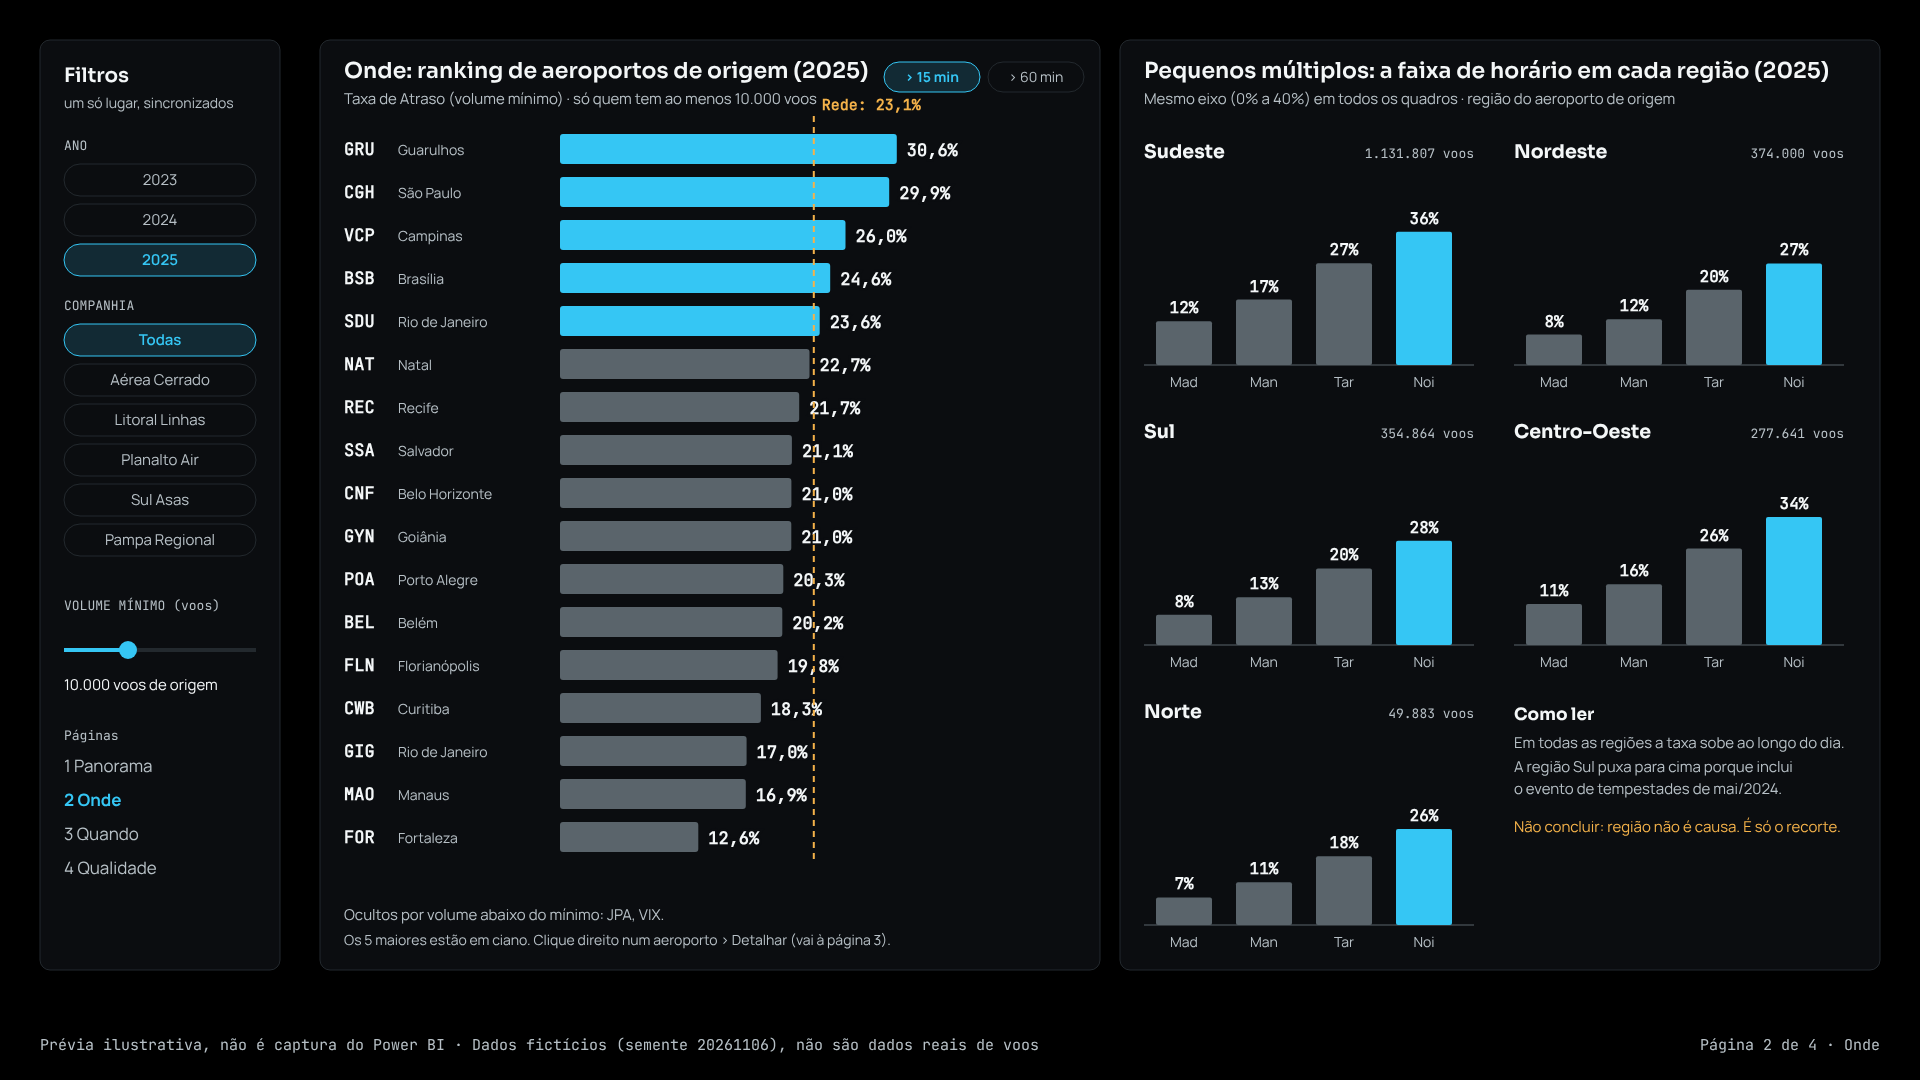

Layout of this report page (visuals, bound fields, positions):
{"tool":"powerbi","page":{"name":"Onde","canvas":[1280,720],"ordinal":1},"visuals":[{"type":"textbox","box":[16,10,168,68],"z":1},{"type":"textbox","box":[200,8,860,74],"z":2},{"type":"textbox","box":[1076,10,188,68],"z":3},{"type":"slicer","title":"Ano","fields":{"Values":["dim_calendario.ano"]},"box":[16,84,168,104],"z":9},{"type":"slicer","title":"Companhia","fields":{"Values":["dim_companhia.companhia"]},"box":[16,198,168,200],"z":10},{"type":"slicer","title":"Volume mínimo (voos)","fields":{"Values":["Param Volume Minimo.Value"]},"box":[16,408,168,96],"z":11},{"type":"barChart","title":"Taxa de atraso (só aeroportos com volume mínimo)","fields":{"Category":["dim_aeroporto.iata"],"Y":["_Medidas.Taxa de Atraso (volume mínimo)"]},"box":[200,84,520,548],"z":20},{"type":"barChart","title":"Diferença para a média da rede (pontos percentuais)","fields":{"Category":["dim_aeroporto.iata"],"Y":["_Medidas.Diferença para a Rede (p.p.)"]},"box":[736,84,528,548],"z":21},{"type":"textbox","box":[200,640,1064,42],"z":22}]}

Visuals, with their boxes in screenshot pixels (x1, y1, x2, y2), scaled from the page's 1280x720 canvas onto the 1920x1080 screenshot:
textbox: select_region(24, 15, 276, 117)
textbox: select_region(300, 12, 1590, 123)
textbox: select_region(1614, 15, 1896, 117)
"Ano" slicer: select_region(24, 126, 276, 282)
"Companhia" slicer: select_region(24, 297, 276, 597)
"Volume mínimo (voos)" slicer: select_region(24, 612, 276, 756)
"Taxa de atraso (só aeroportos com volume mínimo)" barChart: select_region(300, 126, 1080, 948)
"Diferença para a média da rede (pontos percentuais)" barChart: select_region(1104, 126, 1896, 948)
textbox: select_region(300, 960, 1896, 1023)
